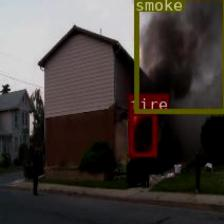fire: (128, 110, 156, 156)
smoke: (133, 0, 224, 112)
